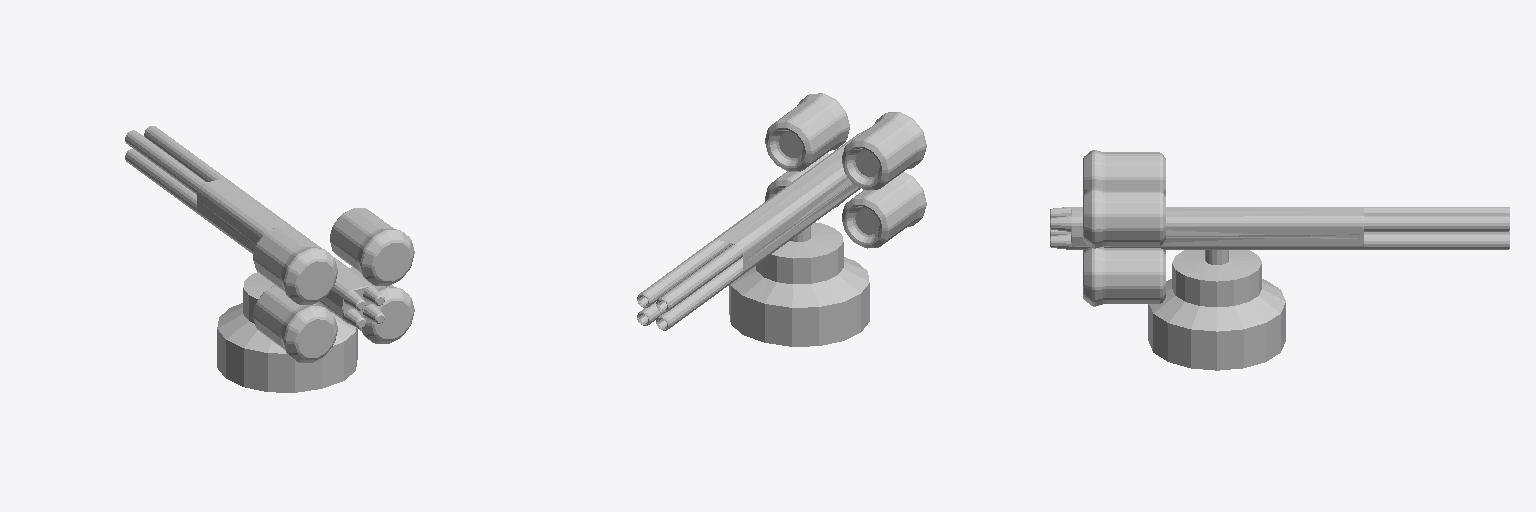
The model's file is 4_gun.obj.
3 views of the same model, side by side, from view 1: azimuth 30°, elevation 25°; view 2: azimuth 150°, elevation 25°; view 3: azimuth 270°, elevation 25° (orthographic).
Parts seen in each view (by area): view 1: Cylinder.002_Cylinder.004, Cube.005; view 2: Cylinder.002_Cylinder.004, Cube.005; view 3: Cylinder.002_Cylinder.004, Cube.005.
Part boxes in pixels (x1,y1,x2,y2): Cylinder.002_Cylinder.004: (125, 126, 414, 362); Cube.005: (217, 272, 357, 392); Cylinder.002_Cylinder.004: (637, 93, 926, 330); Cube.005: (729, 222, 869, 346); Cylinder.002_Cylinder.004: (1050, 150, 1509, 306); Cube.005: (1148, 250, 1285, 370).
Bounding box in the file's own units: 0.534 × 0.6643 × 1.64.